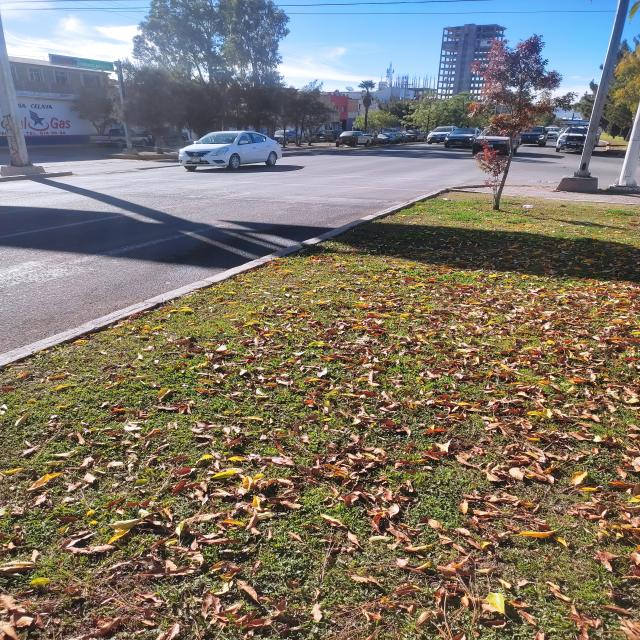Auto: (172, 124, 286, 177), (84, 125, 164, 150), (469, 123, 518, 163), (323, 120, 371, 153), (508, 115, 548, 151), (559, 122, 593, 157), (442, 123, 480, 151), (425, 120, 454, 150), (542, 121, 564, 144), (377, 128, 402, 146)
